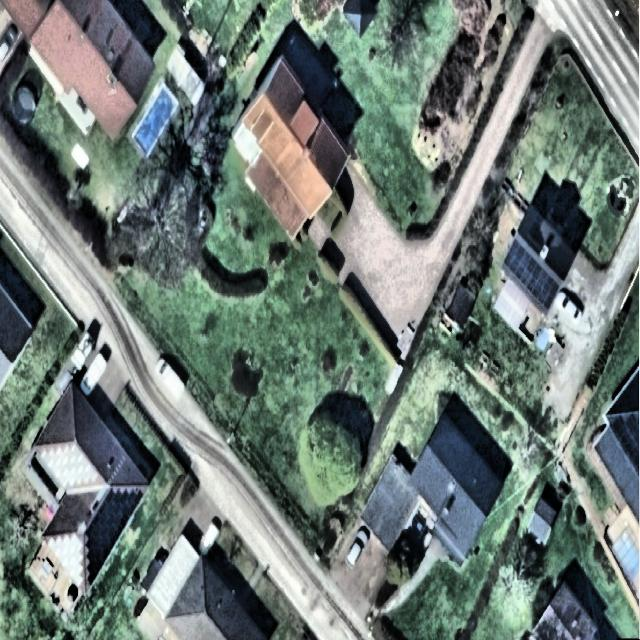roof_pv: (502, 240, 560, 312), (38, 444, 102, 490), (86, 512, 126, 580), (48, 533, 86, 587), (84, 488, 144, 518)
